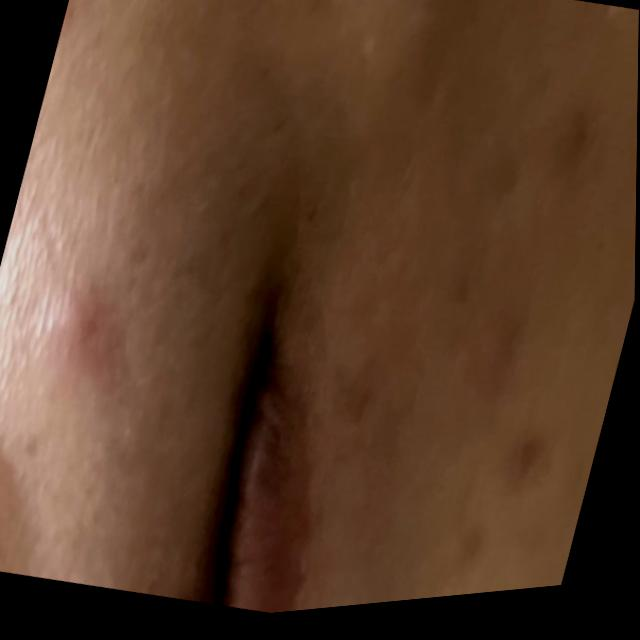papule: (28, 191, 151, 445)
